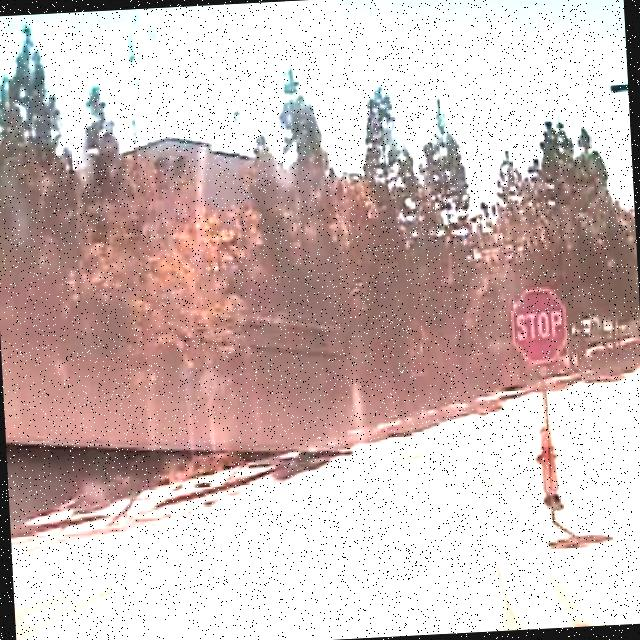Stop: (508, 286, 570, 366)
